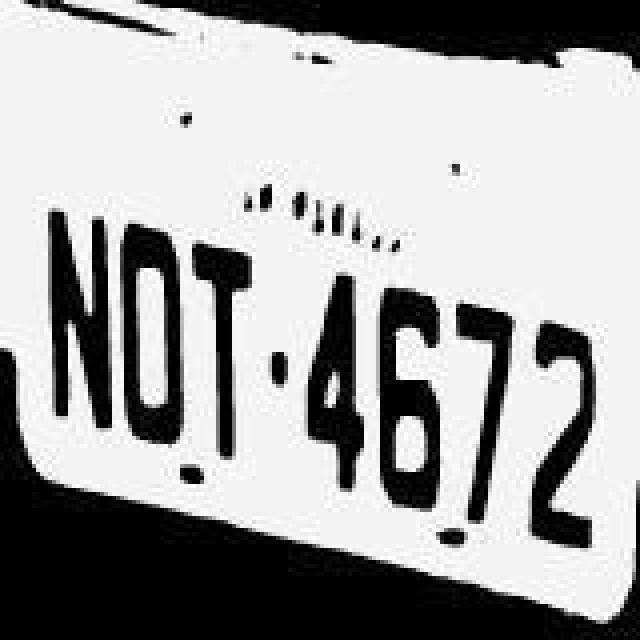2: (522, 318, 598, 562)
4: (302, 258, 370, 494)
6: (368, 282, 448, 518)
7: (448, 290, 520, 526)
N: (34, 192, 118, 448)
O: (114, 208, 190, 456)
T: (192, 230, 256, 466)
